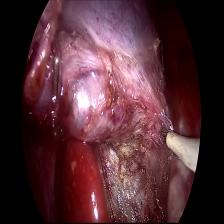Hook: (157, 109, 201, 180)
